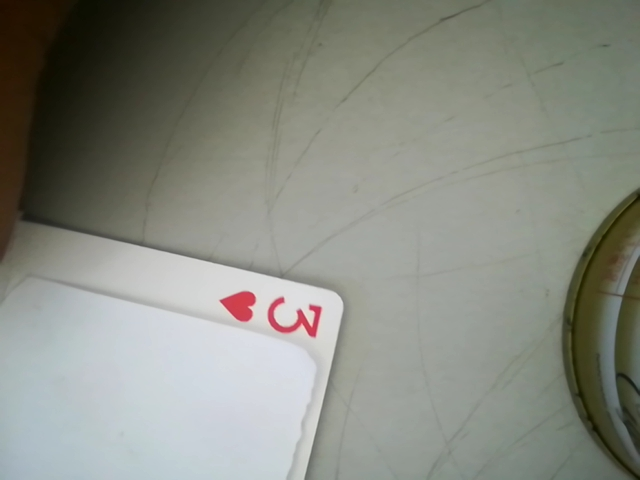hx 3: (212, 284, 340, 346)
